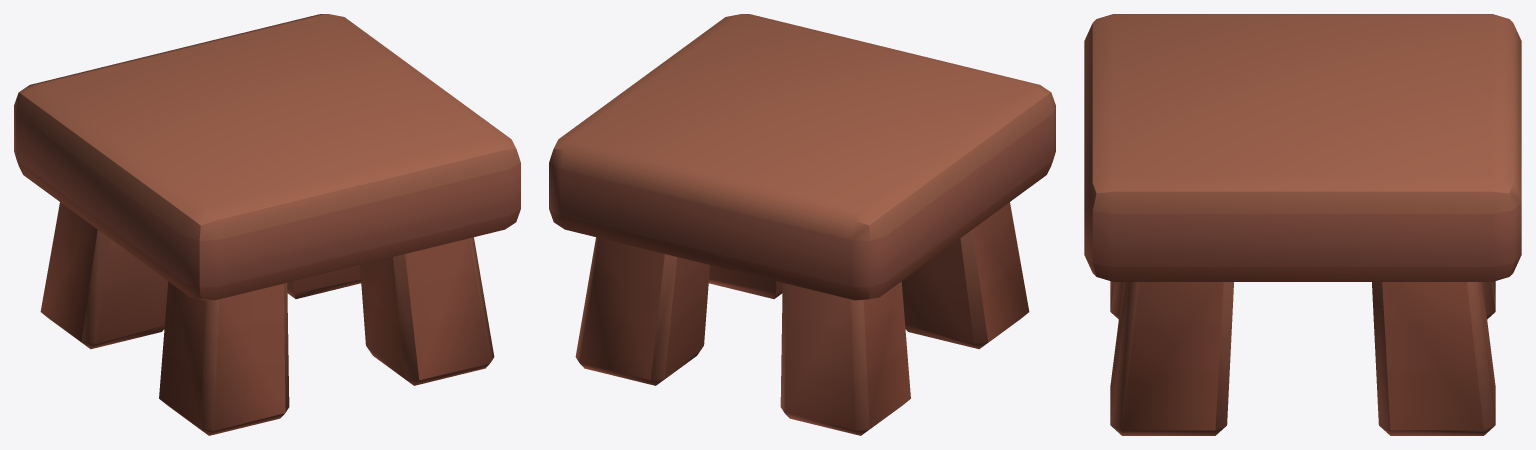
The model's file is chair_stool_wood.glb.
3 renders of one model, left to right at view 1: azimuth 30°, elevation 25°; view 2: azimuth 150°, elevation 25°; view 3: azimuth 270°, elevation 25°, orthographic. The views are drawn at different scales.
Visible parts, largest first — view 1: chair_stool_wood; view 2: chair_stool_wood; view 3: chair_stool_wood.
Boxes of the visible parts, x1=… form: chair_stool_wood: x1=14, y1=14, x2=520, y2=435; chair_stool_wood: x1=549, y1=14, x2=1055, y2=435; chair_stool_wood: x1=1084, y1=14, x2=1521, y2=435.
Bounding box in the file's own units: 0.75 × 0.5 × 0.75.
1 material, 1 textured.
